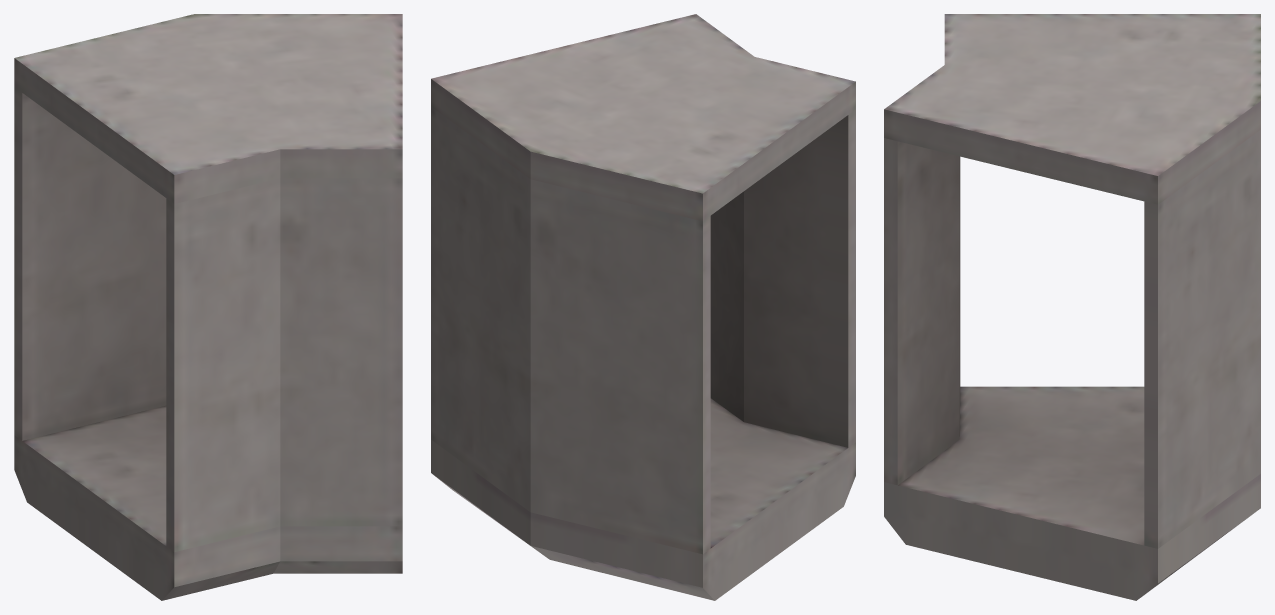
3 views of the same model, side by side, from view 1: azimuth 30°, elevation 25°; view 2: azimuth 150°, elevation 25°; view 3: azimuth 270°, elevation 25° (orthographic). The views are drawn at different scales.
Parts seen in each view (by area): view 1: Cube.003, Cube.006, Cube.005, Cube.004; view 2: Cube.005, Cube.006, Cube.003, Cube.004; view 3: Cube.006, Cube.004, Cube.005, Cube.003.
Boxes of the visible parts, <box> form: Cube.003: <box>166,178,402,552</box>; Cube.006: <box>14,14,402,203</box>; Cube.005: <box>14,87,166,440</box>; Cube.004: <box>14,405,402,600</box>; Cube.005: <box>431,106,710,554</box>; Cube.006: <box>431,14,855,221</box>; Cube.003: <box>710,109,855,447</box>; Cube.004: <box>431,398,855,600</box>; Cube.006: <box>884,14,1260,204</box>; Cube.004: <box>884,386,1260,600</box>; Cube.005: <box>1144,130,1260,548</box>; Cube.003: <box>884,138,960,485</box>.
Size of the model in its own units: 4.85 by 6 by 4.76.
Materials: 1 (1 with a texture image).
